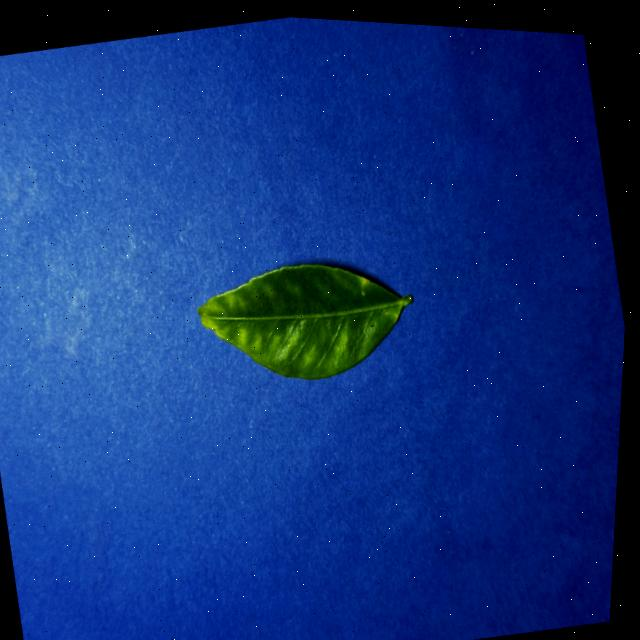greening: (198, 265, 412, 380)
